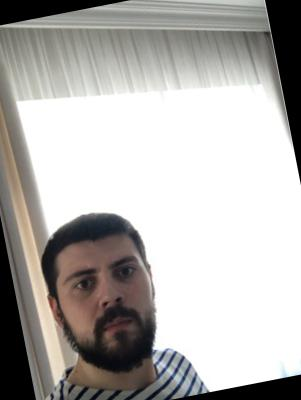without_mask: (51, 248, 167, 382)
